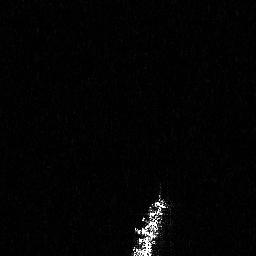ship: (130, 181, 175, 256)
